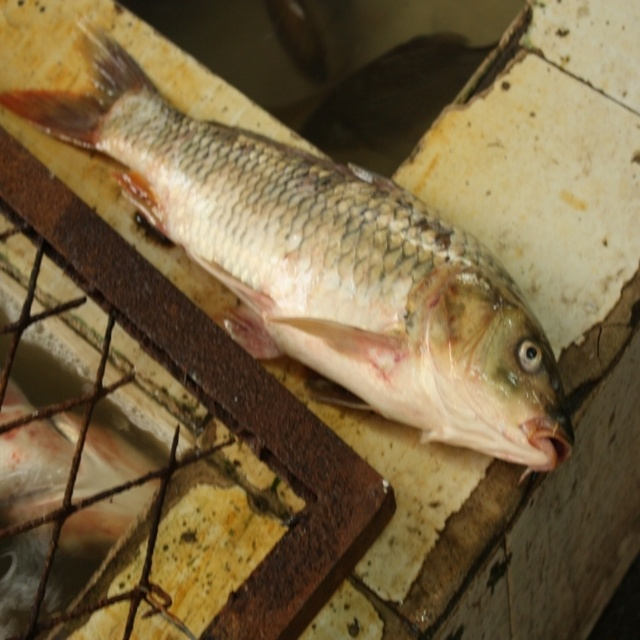Fish: (0, 27, 575, 486)
